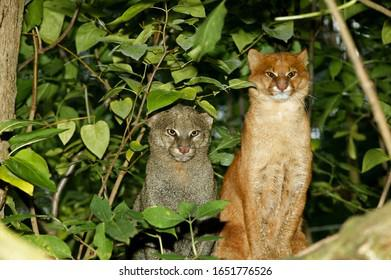Jaguarundi: (238, 48, 316, 251), (135, 101, 219, 208)
